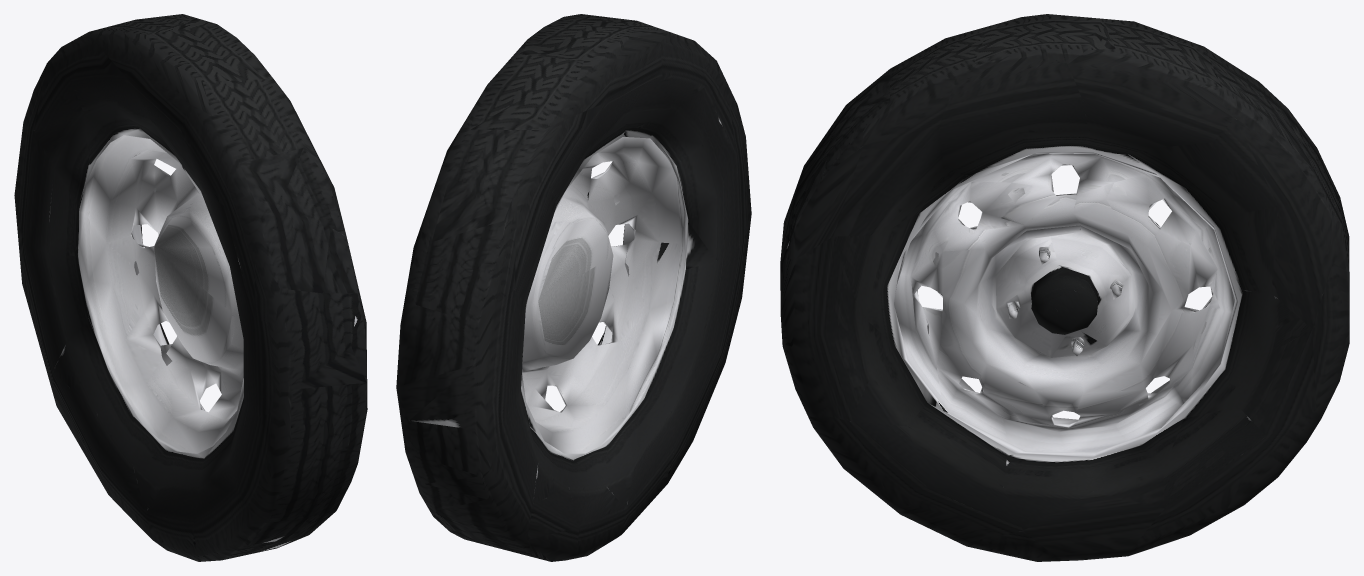
File: steel_wheel.obj
The picture shows the model from 3 angles, left to right: view 1: azimuth 30°, elevation 25°; view 2: azimuth 150°, elevation 25°; view 3: azimuth 270°, elevation 25°; orthographic projection. The views are drawn at different scales.
Parts seen in each view (by area): view 1: wheel; view 2: wheel; view 3: wheel.
Part boxes in pixels (x1=…): wheel: x1=14, y1=14, x2=367, y2=561; wheel: x1=396, y1=14, x2=751, y2=561; wheel: x1=780, y1=14, x2=1349, y2=561.
Bounding box in the file's own units: 0.1489 × 0.697 × 0.6981.
